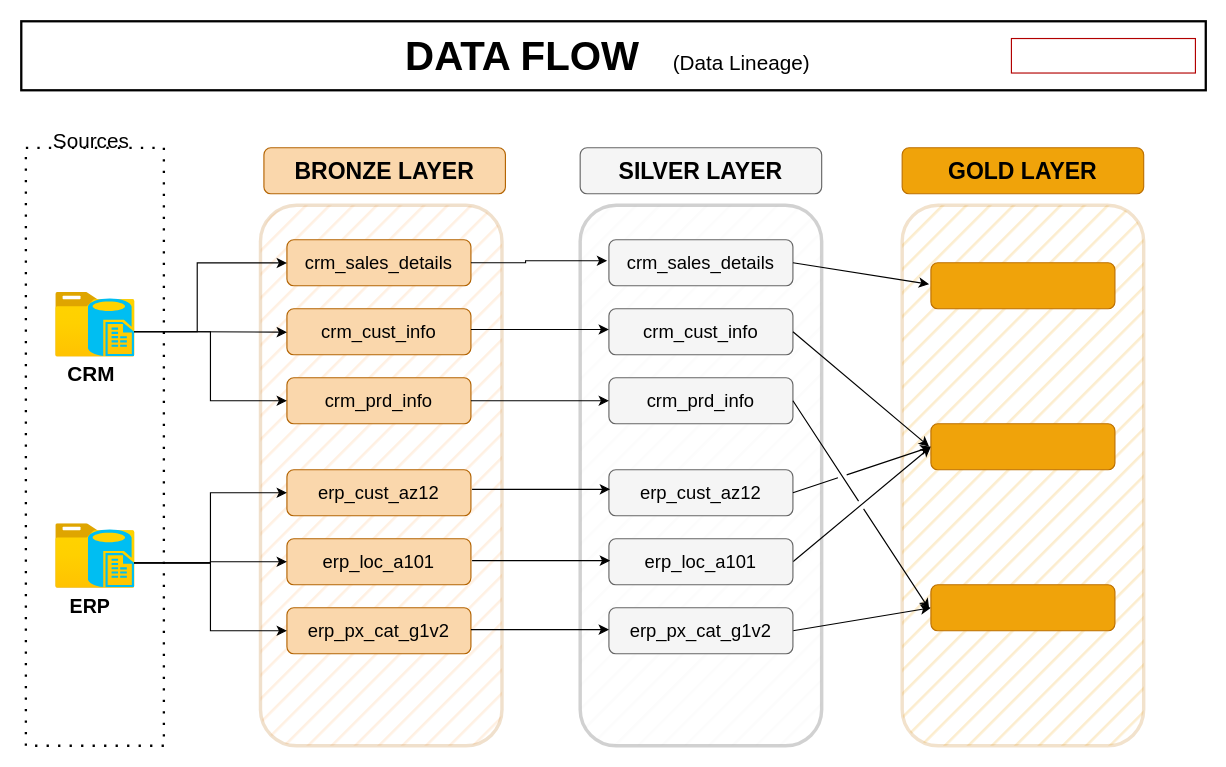
Some shapes in this 1226 by 767 pixel diagram are drawn without their labels. Here are the shapes that lost their labels. From the top down, the box of each, then its label:
(1010, 37, 1195, 73): By Mikkymayor
(930, 262, 1115, 309): fact_sales
(930, 423, 1115, 470): dim_customers
(930, 584, 1115, 631): dim_products
